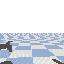drone: (0, 40, 13, 52)
